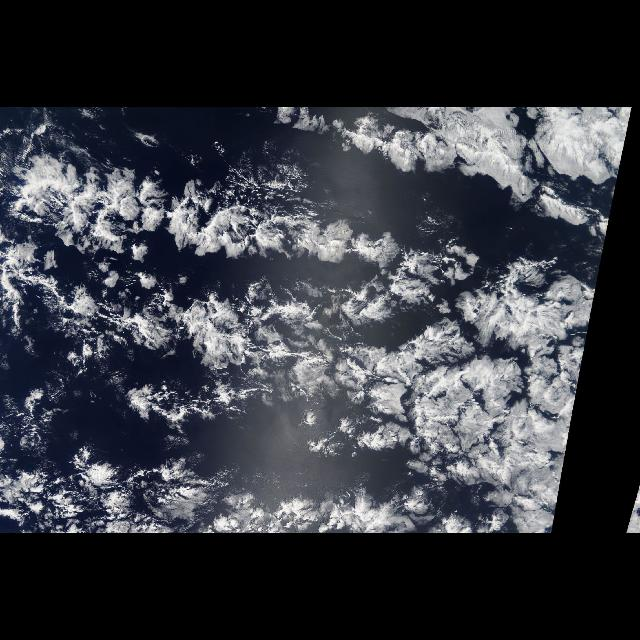Fish: (3, 134, 475, 413)
Flower: (12, 114, 632, 526)
